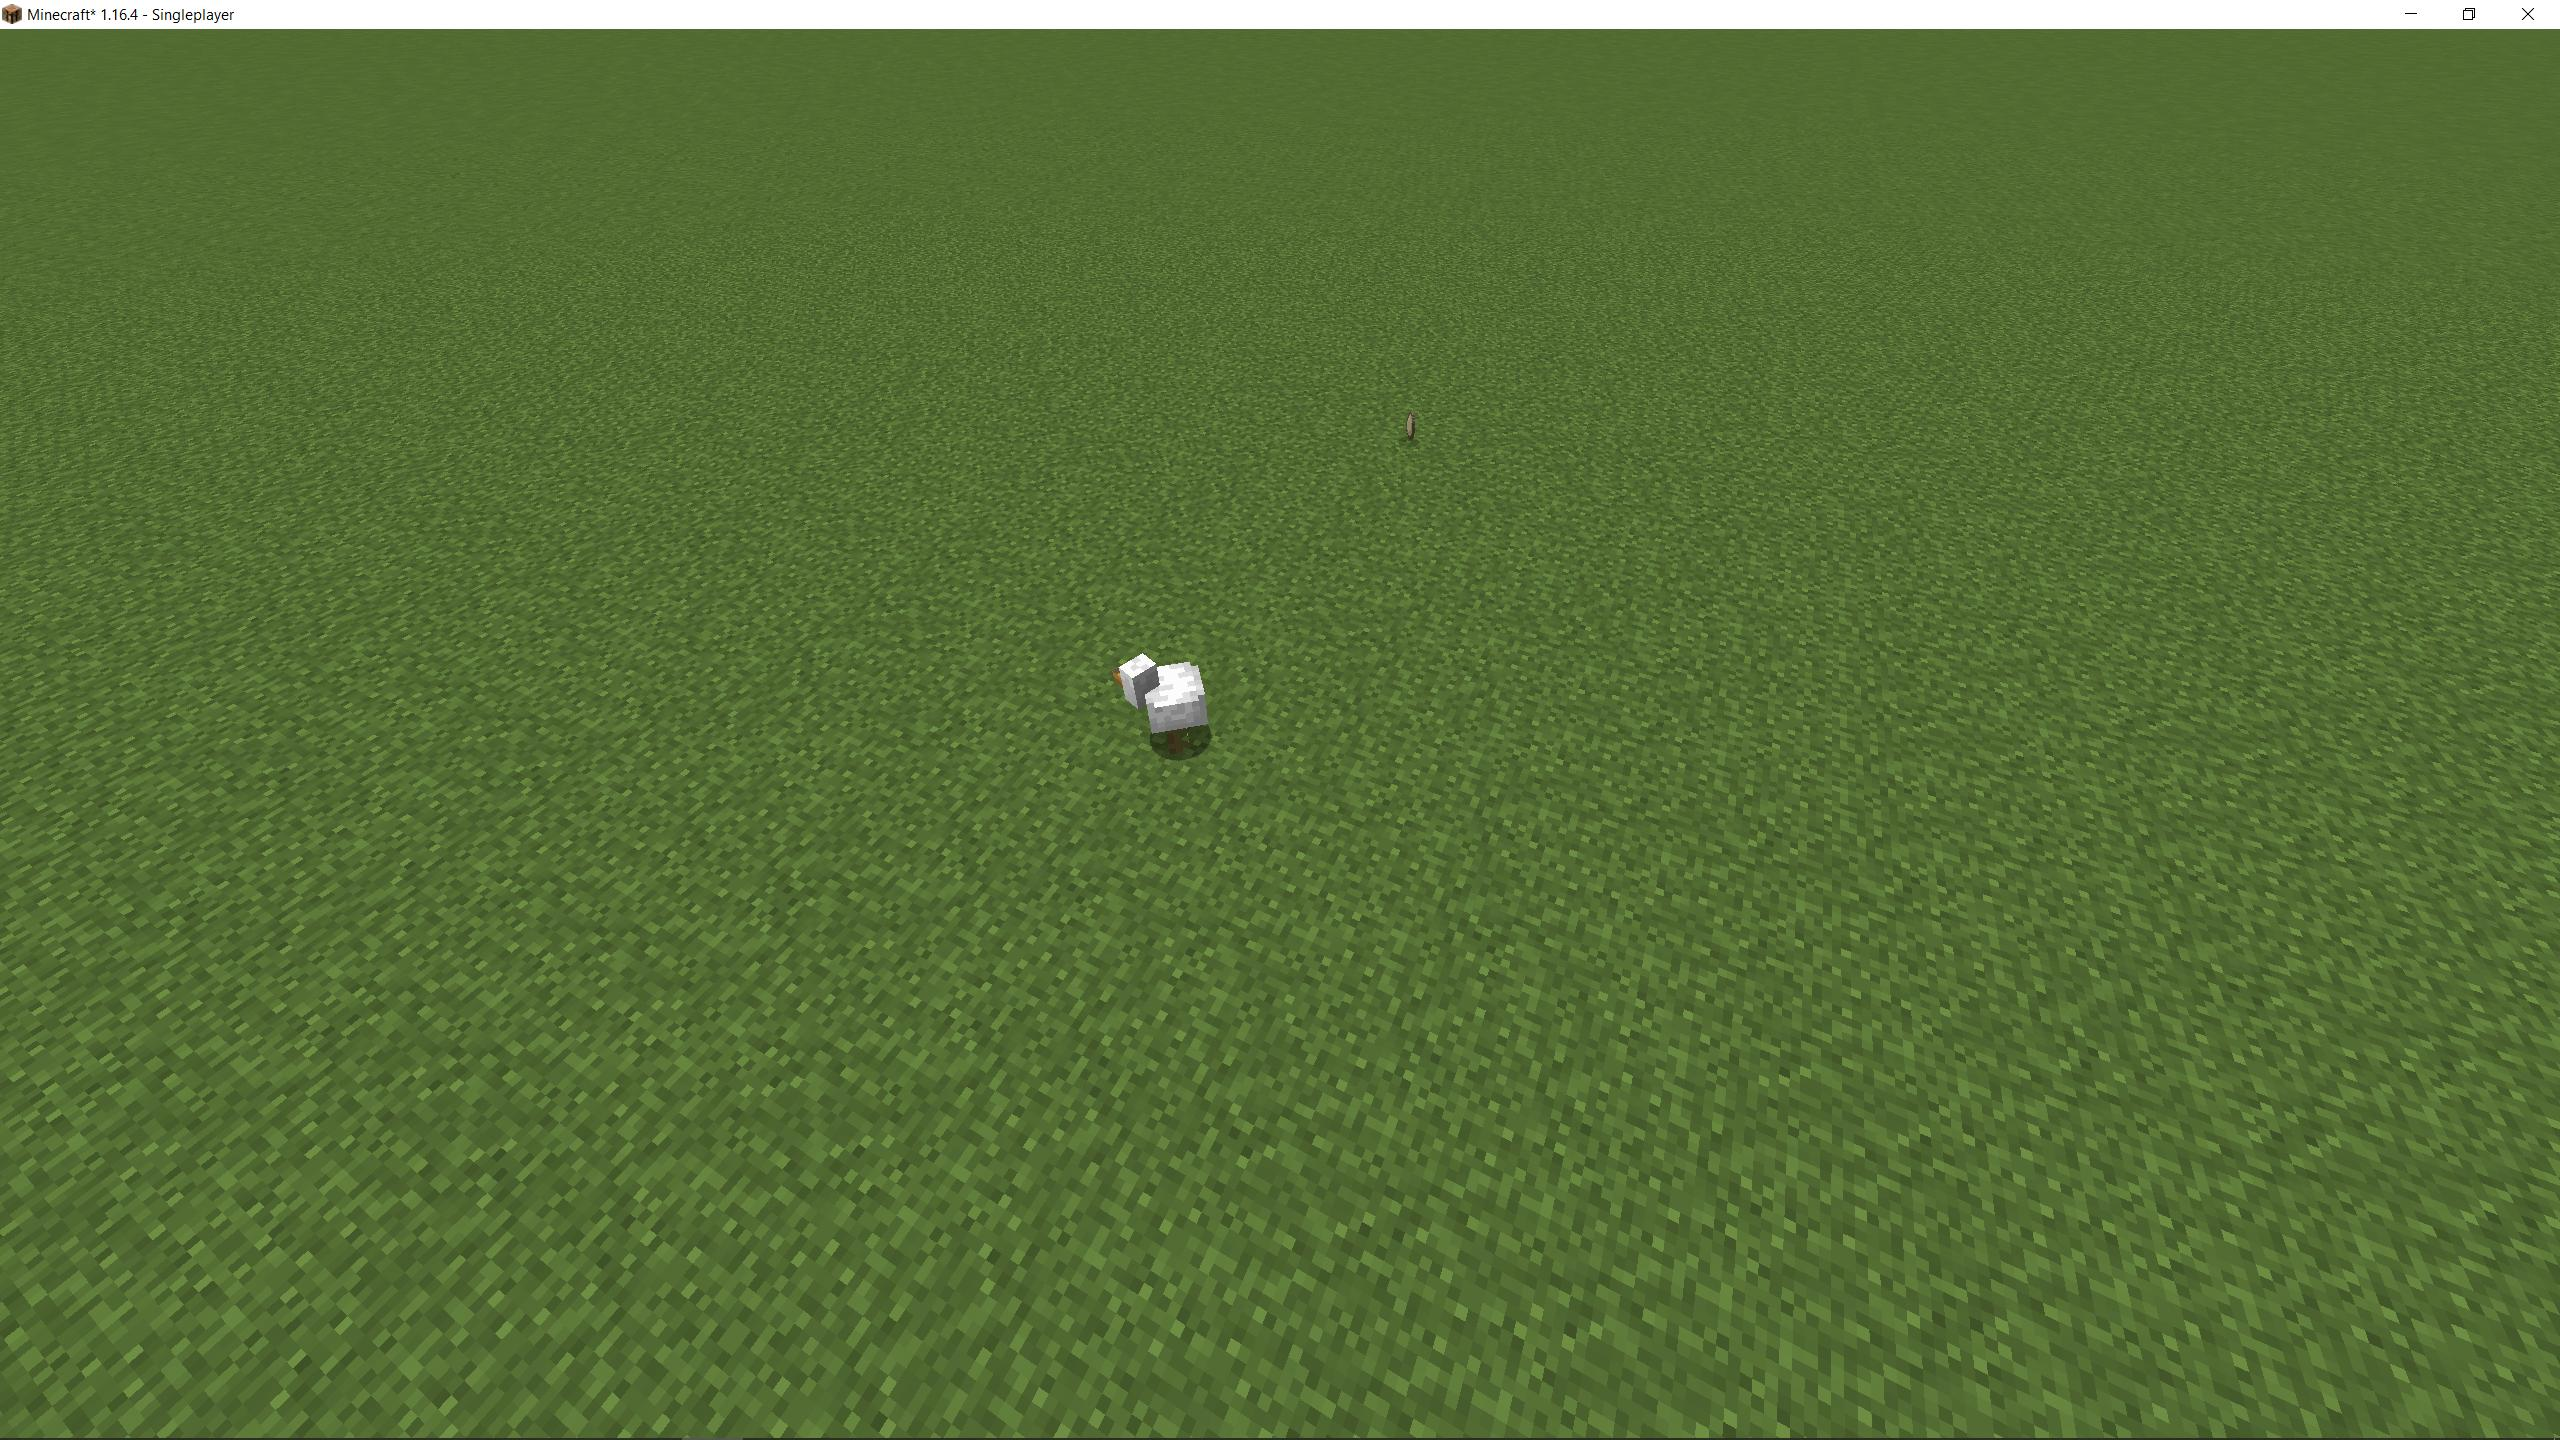chicken: (1111, 652, 1211, 753)
